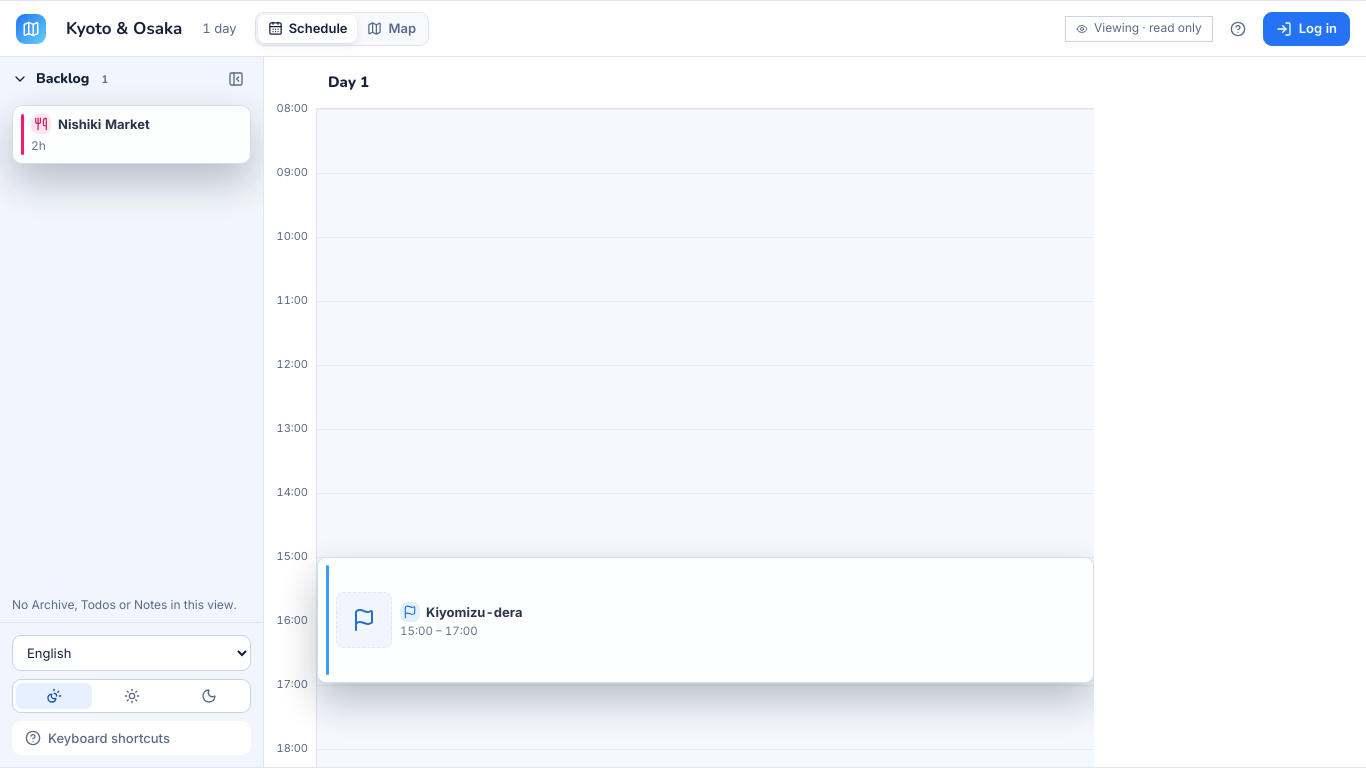
Scenario: a share link, opened without logging in › opens a Backlog Event too
The image size is (1366, 768).
Click the button "Nishiki Market 2h". click: (136, 134)
box: [31,114,240,155]
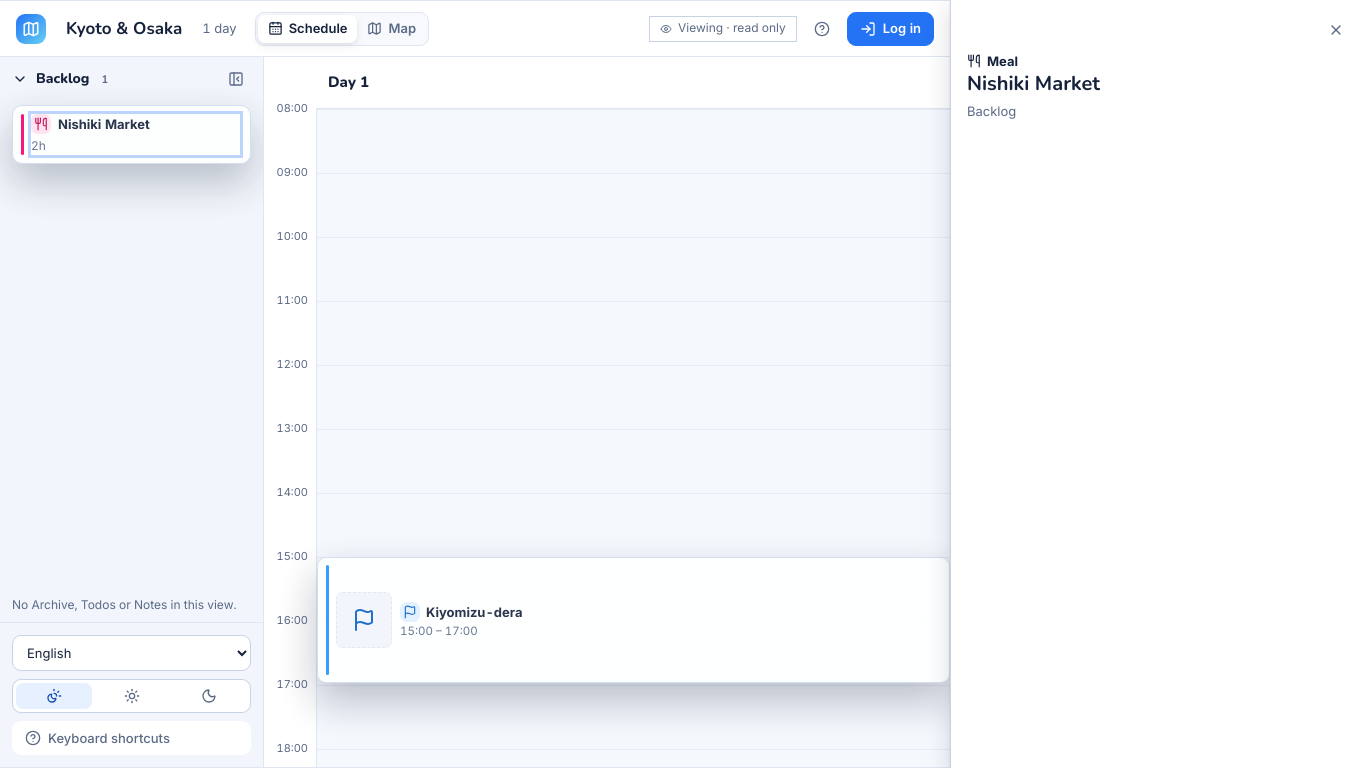
Result: the heading "Nishiki Market" is shown at [967,70,1100,97]
Result: the text "Backlog" is shown at [967,103,1016,119]
